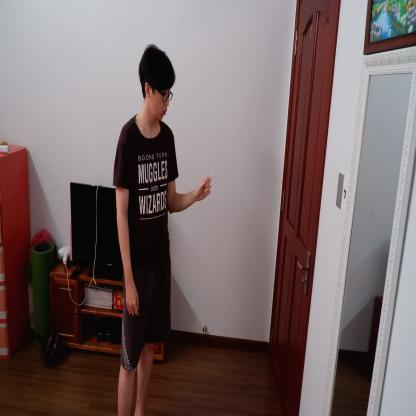cigarette: (209, 168, 216, 181)
person: (110, 43, 213, 415)
